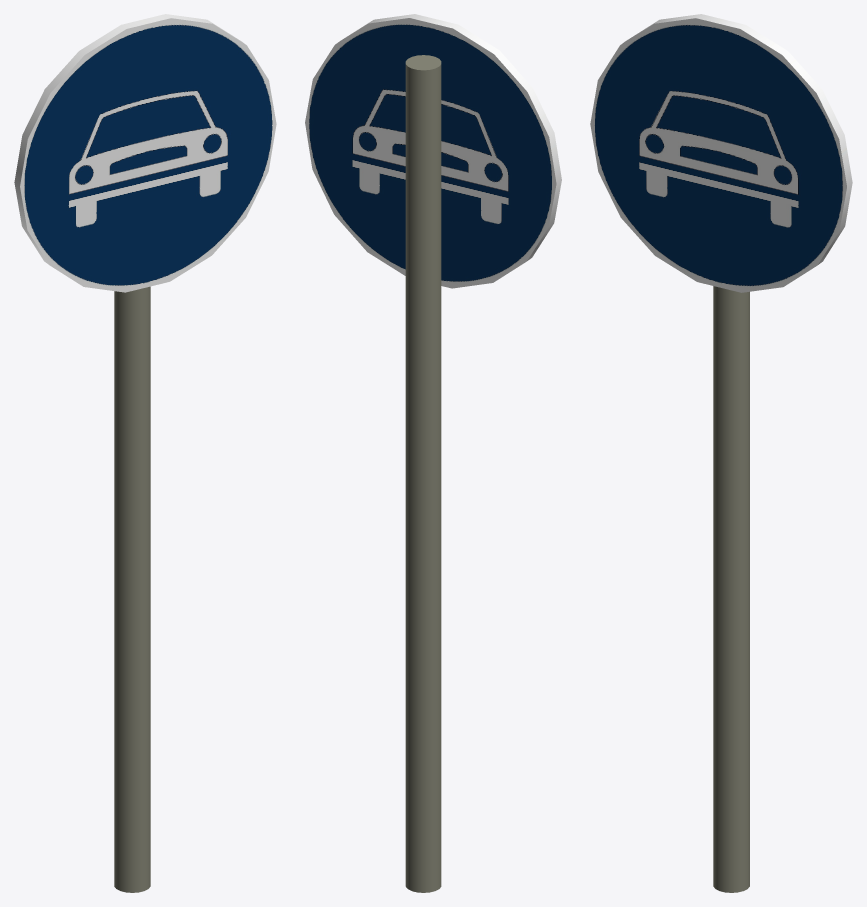
The model's file is 車輛專用標誌.FBX.
3 views of the same model, side by side, from view 1: azimuth 30°, elevation 25°; view 2: azimuth 150°, elevation 25°; view 3: azimuth 330°, elevation 25° (orthographic). The views are drawn at different scales.
Visible parts, largest first — view 1: Cylinder002, Cylinder001; view 2: Cylinder002, Cylinder001; view 3: Cylinder002, Cylinder001.
Part boxes in pixels (box(x1,y1,x2,y2)): Cylinder002: box(14, 14, 276, 292); Cylinder001: box(114, 286, 150, 892); Cylinder002: box(305, 14, 561, 288); Cylinder001: box(405, 55, 441, 892); Cylinder002: box(590, 14, 852, 292); Cylinder001: box(713, 286, 749, 892).
Size of the model in its own units: 800 by 2598 by 130.
2 materials, 1 textured.
